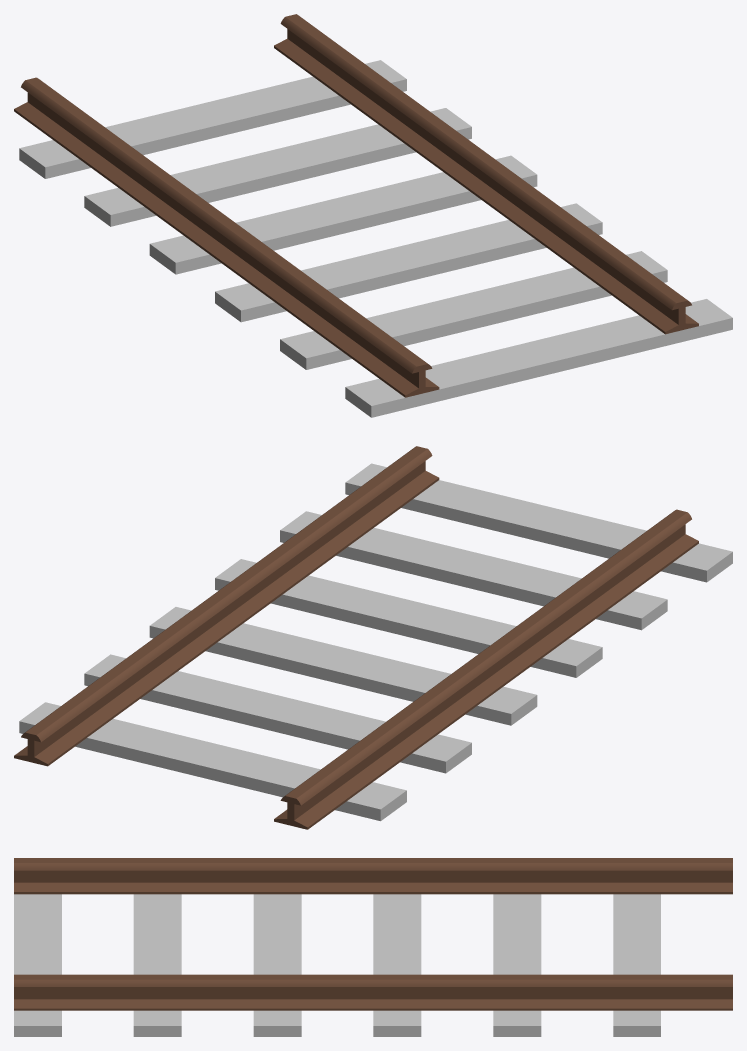
Rendered from TrainTracks_3m.obj.
3 renders of one model, top to bottom at view 1: azimuth 30°, elevation 25°; view 2: azimuth 150°, elevation 25°; view 3: azimuth 270°, elevation 25°, orthographic. The views are drawn at different scales.
Visible parts, largest first — view 1: Mesh1 Rod1 Train_tracks Model, Mesh2 Rod2 Train_tracks Model, Mesh6 Wood4 Train_tracks Model, Mesh5 Wood3 Train_tracks Model, Mesh3 Wood1 Train_tracks Model, Mesh4 Wood2 Train_tracks Model, Mesh7 Wood5 Train_tracks Model, Mesh8 Wood6 Train_tracks Model; view 2: Mesh2 Rod2 Train_tracks Model, Mesh1 Rod1 Train_tracks Model, Mesh5 Wood3 Train_tracks Model, Mesh3 Wood1 Train_tracks Model, Mesh4 Wood2 Train_tracks Model, Mesh6 Wood4 Train_tracks Model, Mesh7 Wood5 Train_tracks Model, Mesh8 Wood6 Train_tracks Model; view 3: Mesh1 Rod1 Train_tracks Model, Mesh2 Rod2 Train_tracks Model, Mesh3 Wood1 Train_tracks Model, Mesh5 Wood3 Train_tracks Model, Mesh7 Wood5 Train_tracks Model, Mesh8 Wood6 Train_tracks Model, Mesh4 Wood2 Train_tracks Model, Mesh6 Wood4 Train_tracks Model.
Part boxes in pixels (box(x1,y1,x2,y2)): Mesh1 Rod1 Train_tracks Model: box(14, 77, 439, 397); Mesh2 Rod2 Train_tracks Model: box(274, 14, 698, 334); Mesh6 Wood4 Train_tracks Model: box(345, 299, 732, 417); Mesh5 Wood3 Train_tracks Model: box(149, 155, 537, 274); Mesh3 Wood1 Train_tracks Model: box(215, 203, 602, 322); Mesh4 Wood2 Train_tracks Model: box(19, 60, 406, 178); Mesh7 Wood5 Train_tracks Model: box(280, 251, 667, 369); Mesh8 Wood6 Train_tracks Model: box(84, 108, 471, 226); Mesh2 Rod2 Train_tracks Model: box(14, 446, 439, 766); Mesh1 Rod1 Train_tracks Model: box(274, 509, 698, 829); Mesh5 Wood3 Train_tracks Model: box(149, 607, 537, 725); Mesh3 Wood1 Train_tracks Model: box(215, 559, 602, 677); Mesh4 Wood2 Train_tracks Model: box(19, 702, 406, 821); Mesh6 Wood4 Train_tracks Model: box(345, 463, 732, 582); Mesh7 Wood5 Train_tracks Model: box(280, 511, 667, 630); Mesh8 Wood6 Train_tracks Model: box(84, 654, 471, 773); Mesh1 Rod1 Train_tracks Model: box(14, 858, 732, 894); Mesh2 Rod2 Train_tracks Model: box(14, 974, 732, 1010); Mesh3 Wood1 Train_tracks Model: box(253, 894, 301, 1036); Mesh5 Wood3 Train_tracks Model: box(373, 894, 421, 1036); Mesh7 Wood5 Train_tracks Model: box(133, 894, 181, 1036); Mesh8 Wood6 Train_tracks Model: box(493, 894, 541, 1036); Mesh4 Wood2 Train_tracks Model: box(613, 894, 660, 1036); Mesh6 Wood4 Train_tracks Model: box(14, 894, 61, 1036).
Size of the model in its own units: 160 by 17 by 300.
